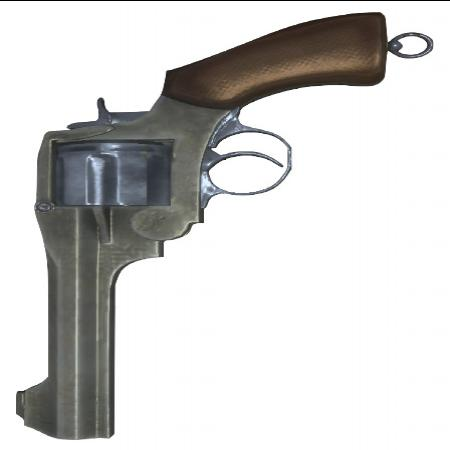Pistol: (12, 20, 411, 434)
